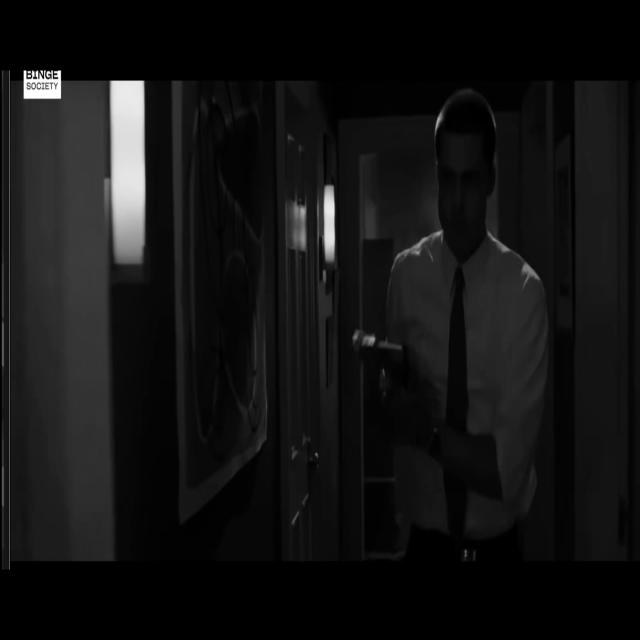weapons: (344, 318, 438, 441)
